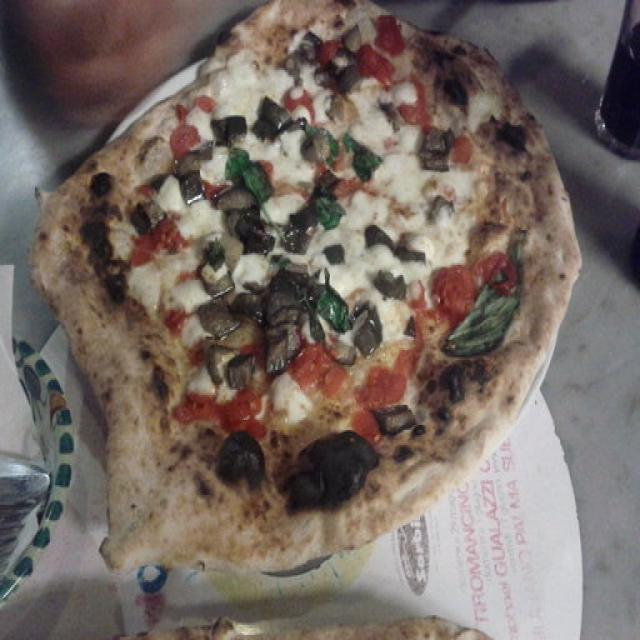Basil: (447, 286, 523, 359), (346, 128, 384, 190), (232, 152, 277, 198), (311, 284, 353, 329), (310, 184, 346, 222), (310, 116, 339, 162)
Mushrooms: (244, 294, 306, 332), (237, 208, 276, 259), (214, 443, 260, 483), (176, 148, 213, 197), (227, 307, 268, 351), (212, 346, 258, 384), (202, 302, 244, 342), (318, 42, 355, 86), (274, 269, 318, 305), (225, 188, 266, 226), (252, 95, 286, 138), (209, 113, 248, 149), (290, 31, 324, 67), (362, 297, 384, 350), (205, 253, 233, 294), (266, 322, 296, 359), (376, 403, 412, 427), (427, 132, 447, 168), (366, 222, 388, 245), (137, 212, 159, 232)
Pizza: (32, 2, 580, 573)
